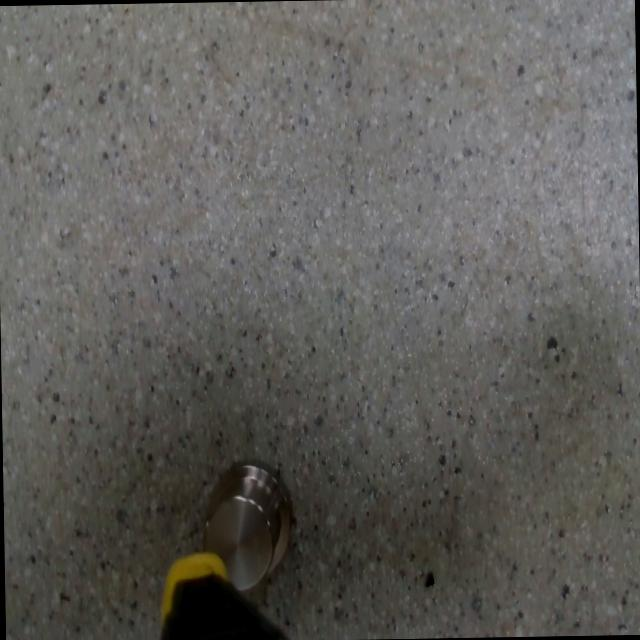sensor: (197, 456, 295, 594)
